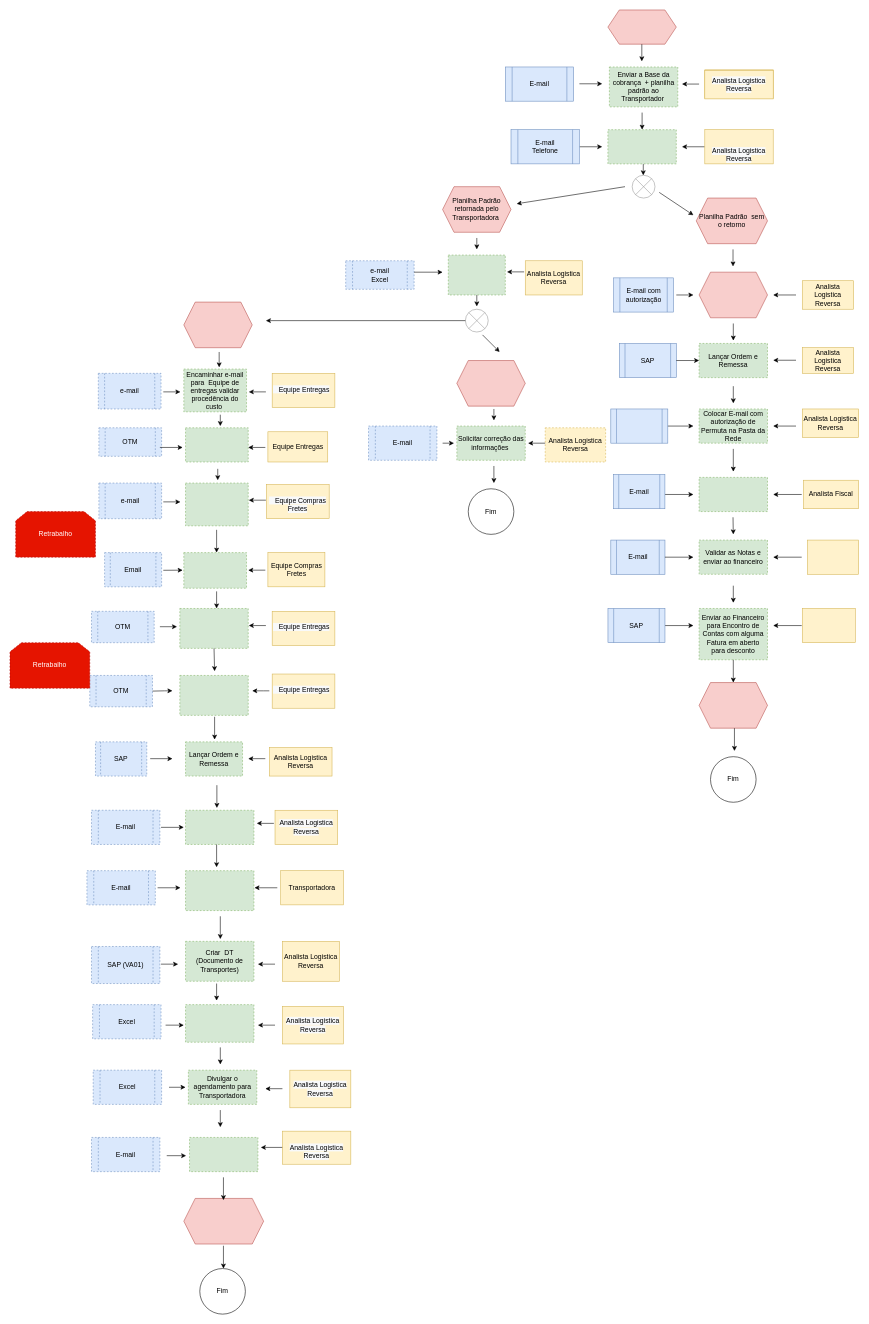
Image size: 869x1324. Some labels were removed from this diagram. Each missing label, with the centre of its shape:
Acompanhar a entrada da mercadoria na empresa na data do agendamento: (x=223, y=1221)
Aguardar retorno da data enviada pelo Transportador: (x=219, y=890)
Autorizado Permuta ao Transportador: (x=733, y=295)
Divulgar o agendamento para para o CD / Fiscal: (x=223, y=1154)
Efetivar o Custo no Sistema: (x=213, y=695)
Encaminhar e-mail para Equipe de Compras Fretes validar o valor custo ($): (x=216, y=504)
Encaminhar para Equipe de Entregas Efetivar o Custo: (x=213, y=628)
Enviar as Ordens e Remessa Feitas ao Fiscal: (x=733, y=494)
Enviar datas disponíveis para Retorno da Devolução: (x=219, y=827)
Financeiro: (x=828, y=625)
Fiscal: (x=833, y=557)
Inserir todas as informações na Agenda: (x=219, y=1023)
Monitoramento das devoluções pendentes: (x=641, y=26)
Preenchimento NOK: (x=490, y=383)
Preenchimento OK: (x=217, y=325)
Processo Finalizado: (x=733, y=705)
Realizar Follow da cobrança com a Transportadora em até 72 horas: (x=641, y=146)
Rede: (x=639, y=425)
Validar a procedência da cobrança do custo: (x=216, y=444)
Validar o valor do custo do frete ( $ ): (x=215, y=570)
Verificar o preenchimento da planilha padrão: (x=476, y=275)
